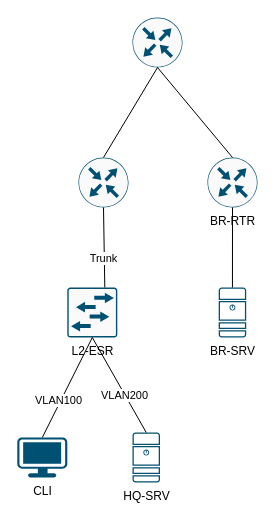
Image size: 275x521. Some labels were removed from this diagram. The centre of each missing label's shape, as x and y in pixels:
HQ-RTR: point (103, 182)
ISP: point (157, 42)
